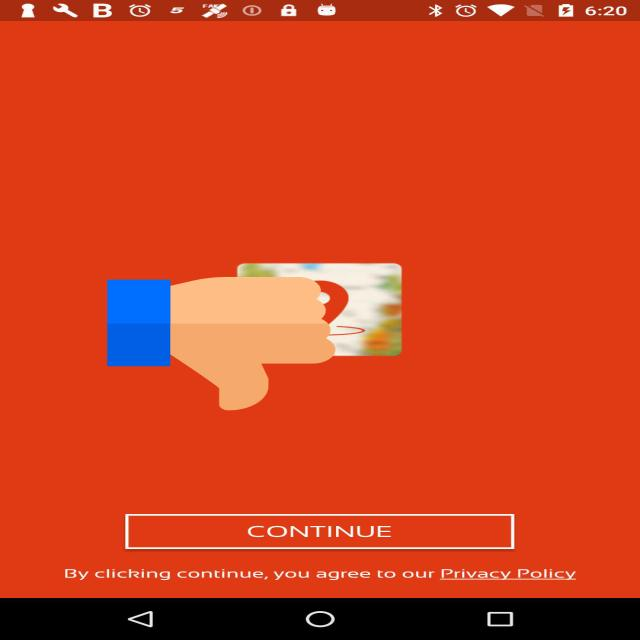obstruction: (107, 274, 336, 414)
